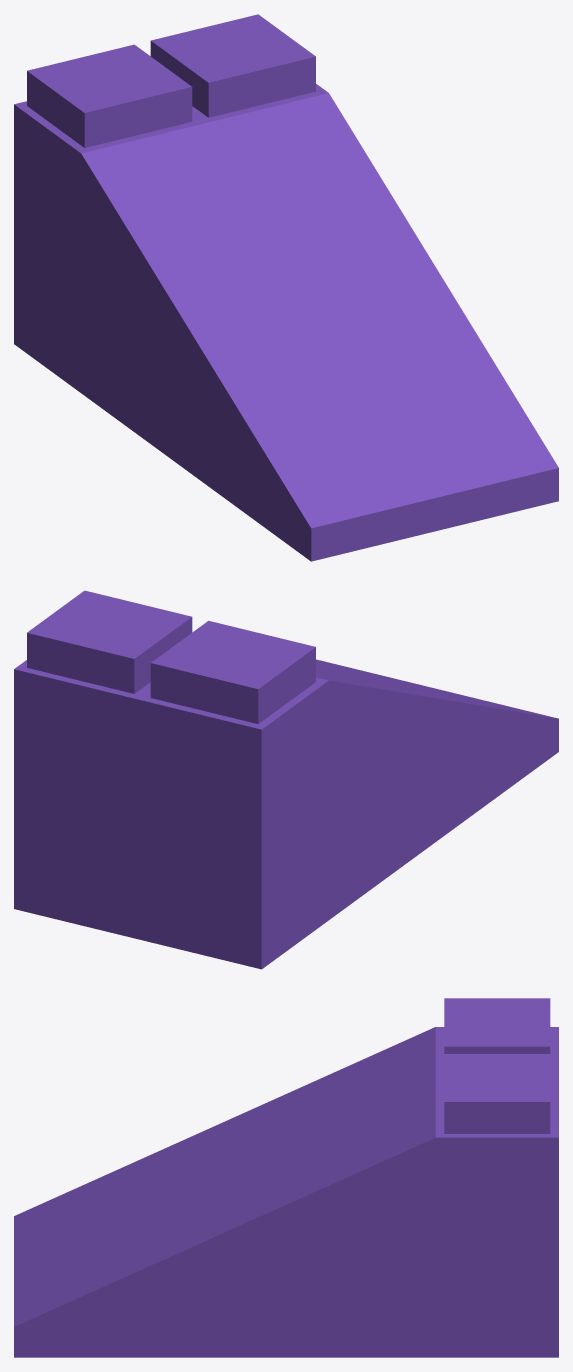
File: Lego_Part_18.fbx
3 views of the same model, one above another, from view 1: azimuth 30°, elevation 25°; view 2: azimuth 150°, elevation 25°; view 3: azimuth 270°, elevation 25° (orthographic). The views are drawn at different scales.
Parts seen in each view (by area): view 1: Lego_Part_18; view 2: Lego_Part_18; view 3: Lego_Part_18.
Boxes of the visible parts, bbox=[...] form: Lego_Part_18: bbox=[14, 14, 558, 561]; Lego_Part_18: bbox=[14, 590, 558, 969]; Lego_Part_18: bbox=[14, 998, 558, 1357].
Bounding box in the file's own units: 3.09 × 3.28 × 6.43.
Materials: 1 (1 with a texture image).
